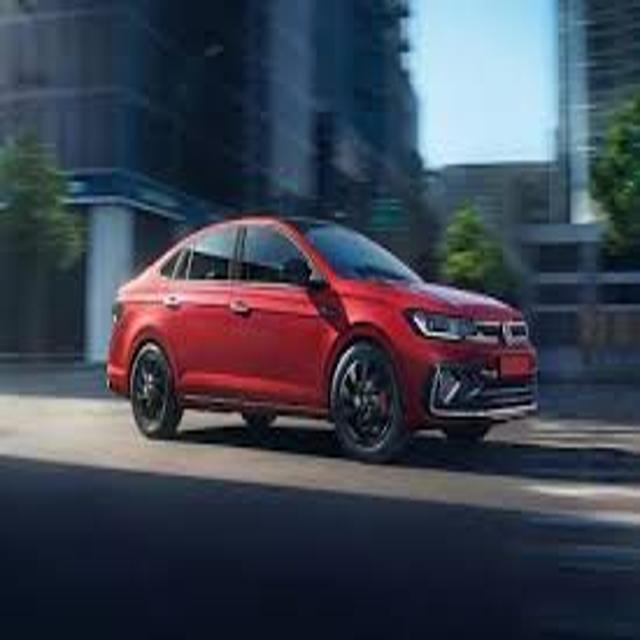car: (107, 215, 539, 462)
